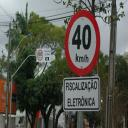speed_limit_40: (64, 9, 101, 75)
speed_limit_60: (37, 50, 43, 61)
